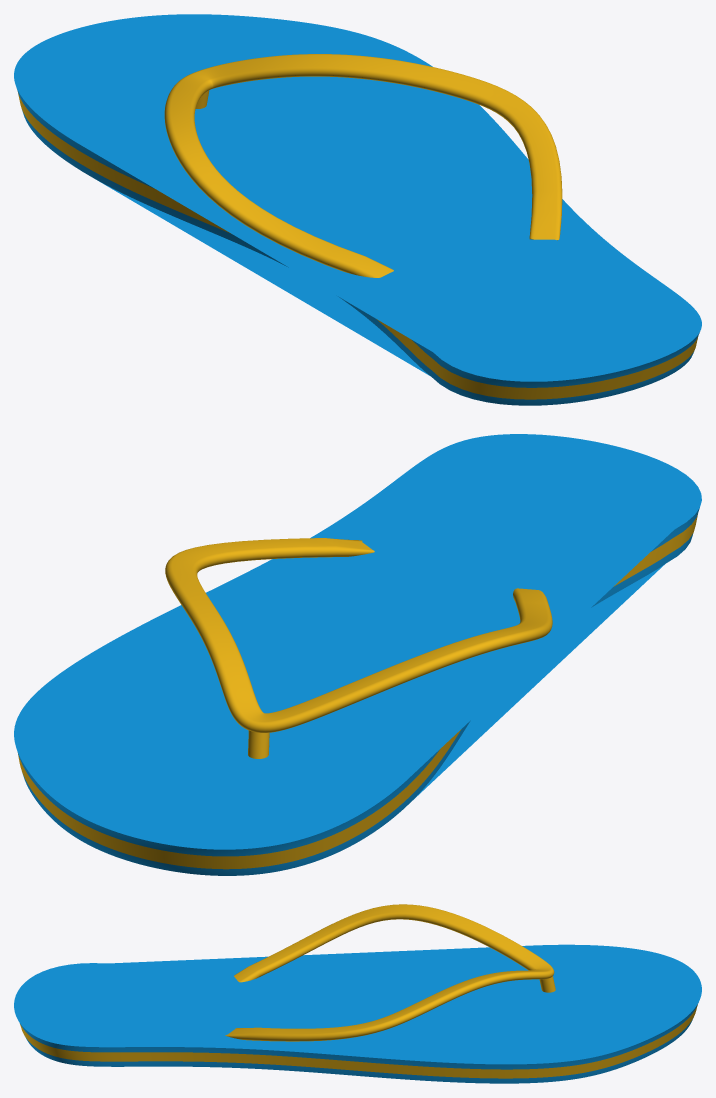
The model's file is Tong_D.fbx.
The picture shows the model from 3 angles, top to bottom: view 1: azimuth 30°, elevation 25°; view 2: azimuth 150°, elevation 25°; view 3: azimuth 270°, elevation 25°; orthographic projection. The views are drawn at different scales.
Parts seen in each view (by area): view 1: Tong_D; view 2: Tong_D; view 3: Tong_D.
Part boxes in pixels (left/top/right/bottom): Tong_D: left=14, top=14, right=701, bottom=405; Tong_D: left=14, top=434, right=701, bottom=875; Tong_D: left=14, top=904, right=701, bottom=1083.
Bounding box in the file's own units: 71.02 × 18.13 × 173.
